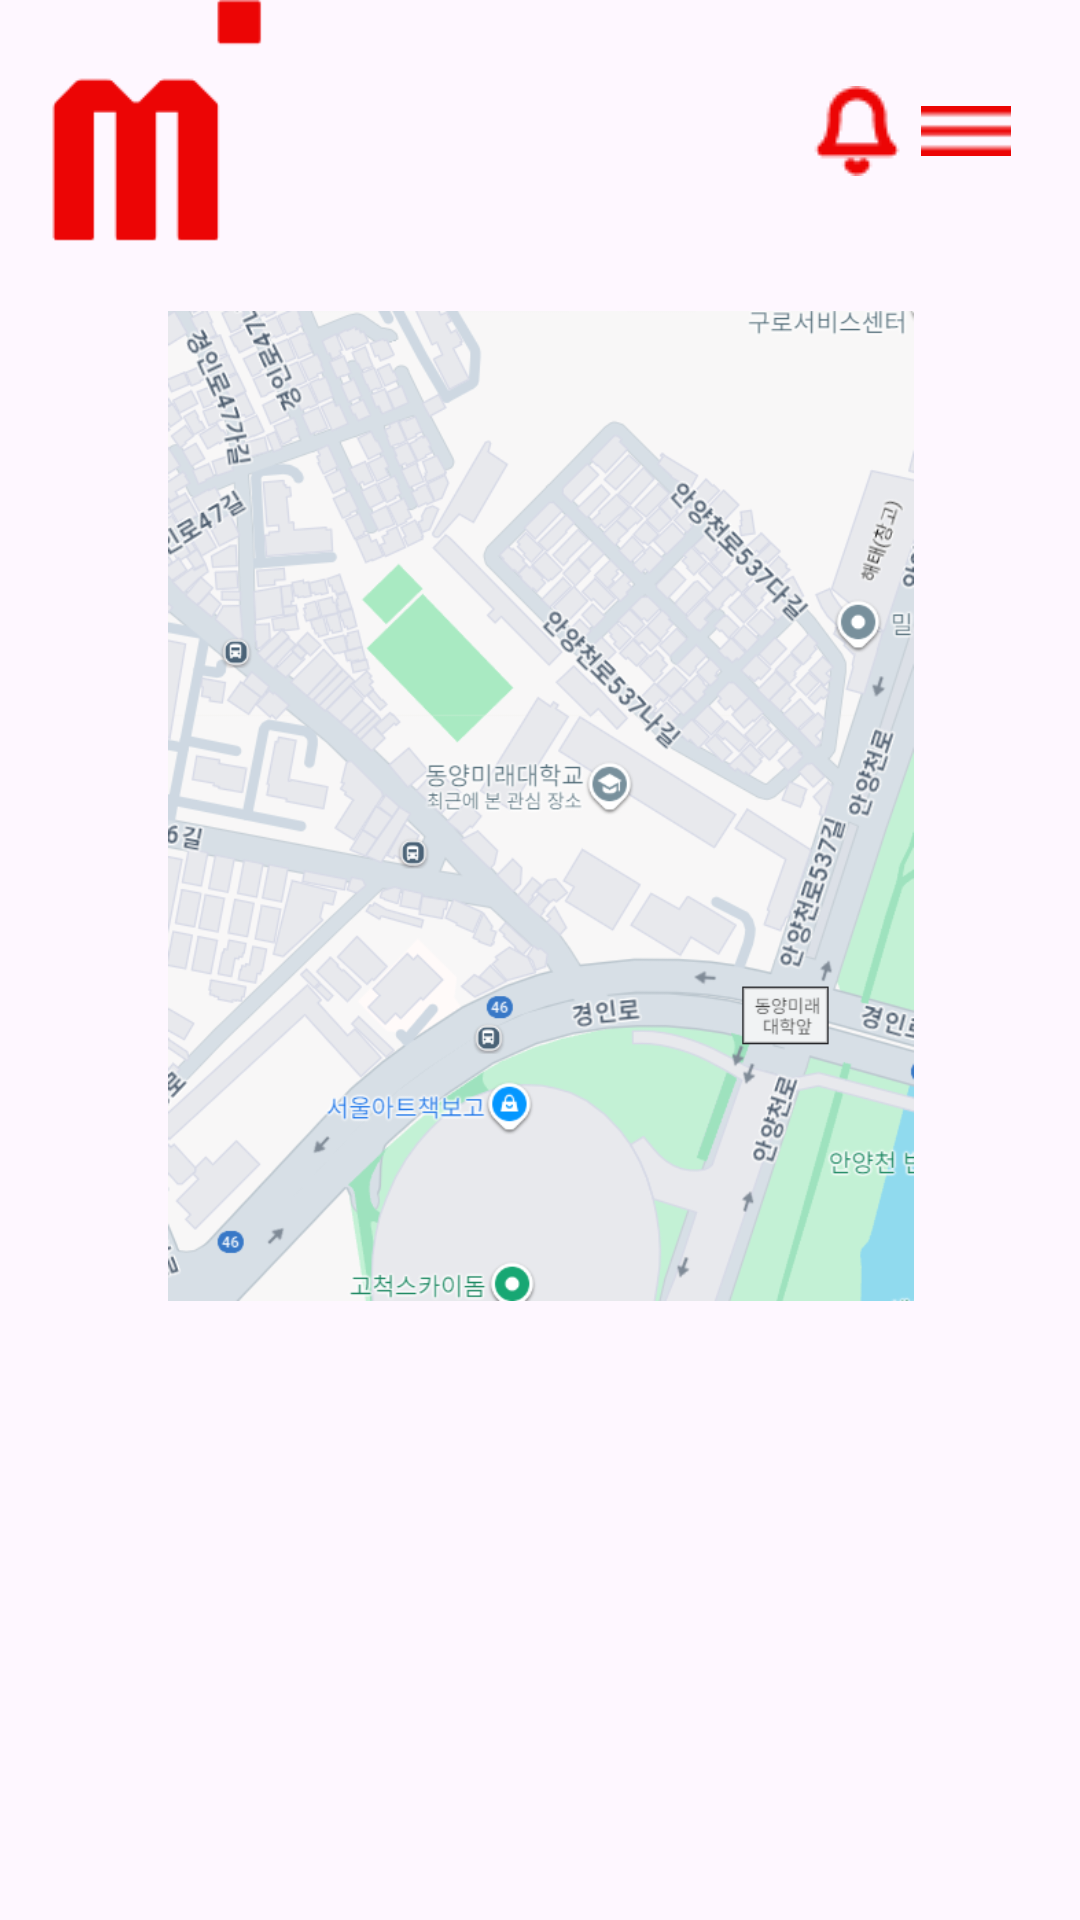

Named icons in this screenshot (1080x1920) and their centers, (x=x, y=y):
bell: (x=857, y=131)
menu: (x=966, y=131)
